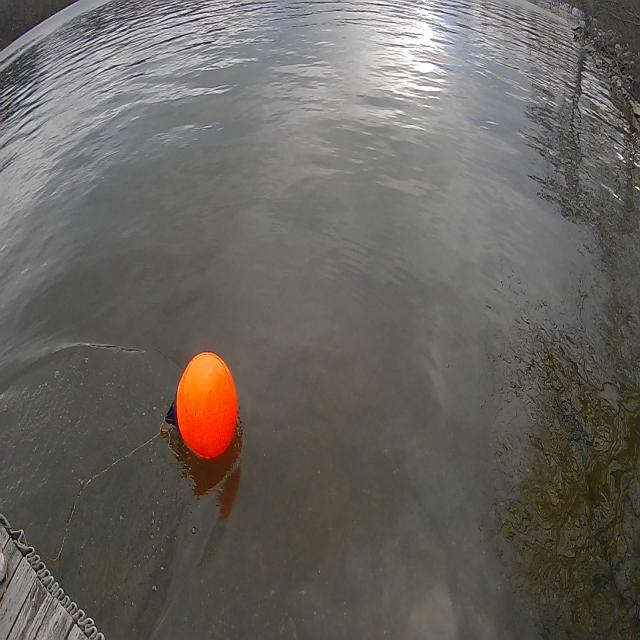Buoy: (161, 343, 247, 474)
